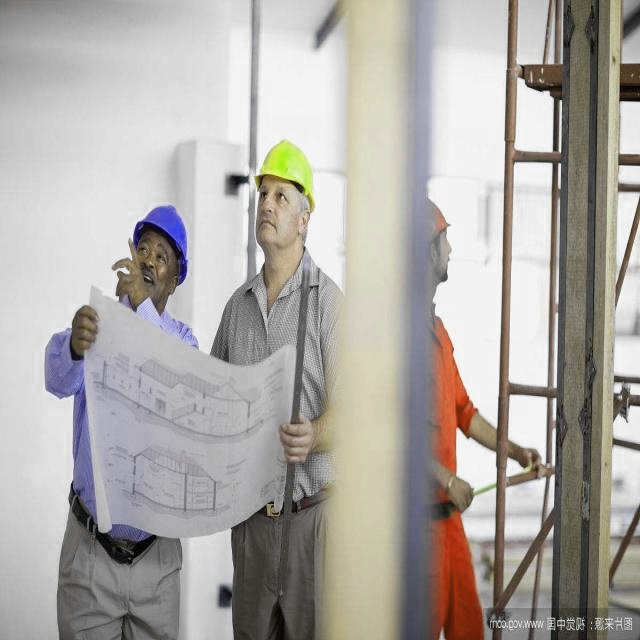Con_Casco: (248, 139, 315, 261), (135, 201, 188, 291)
